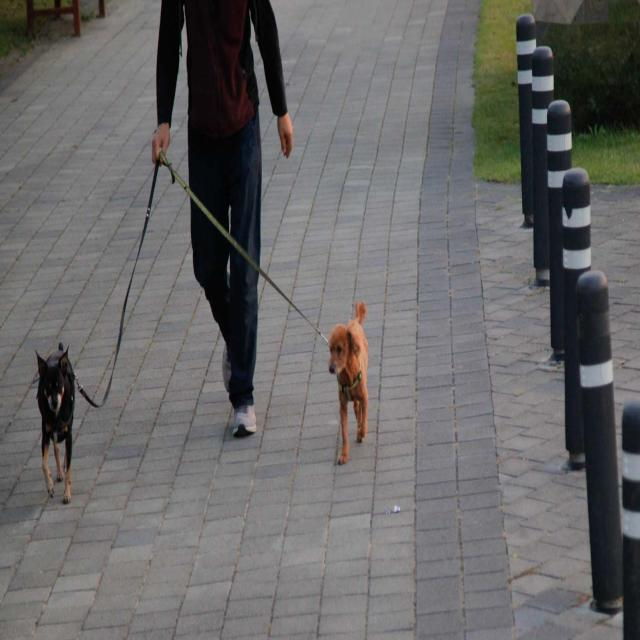Leashed_Dog: (35, 130, 200, 505), (240, 196, 370, 465)
